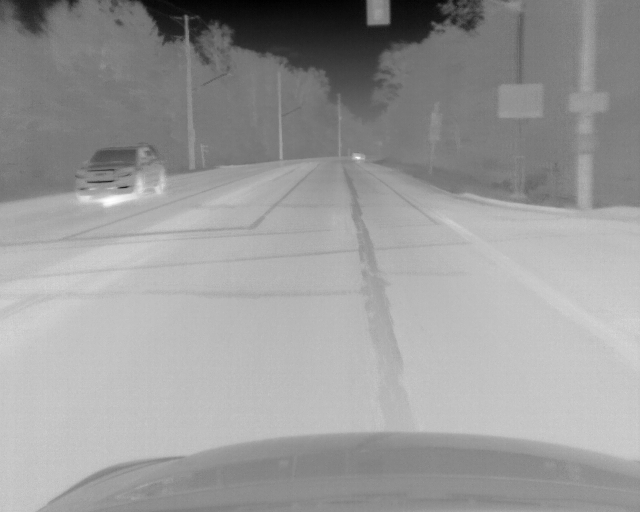car: (74, 141, 166, 207), (351, 151, 367, 161)
